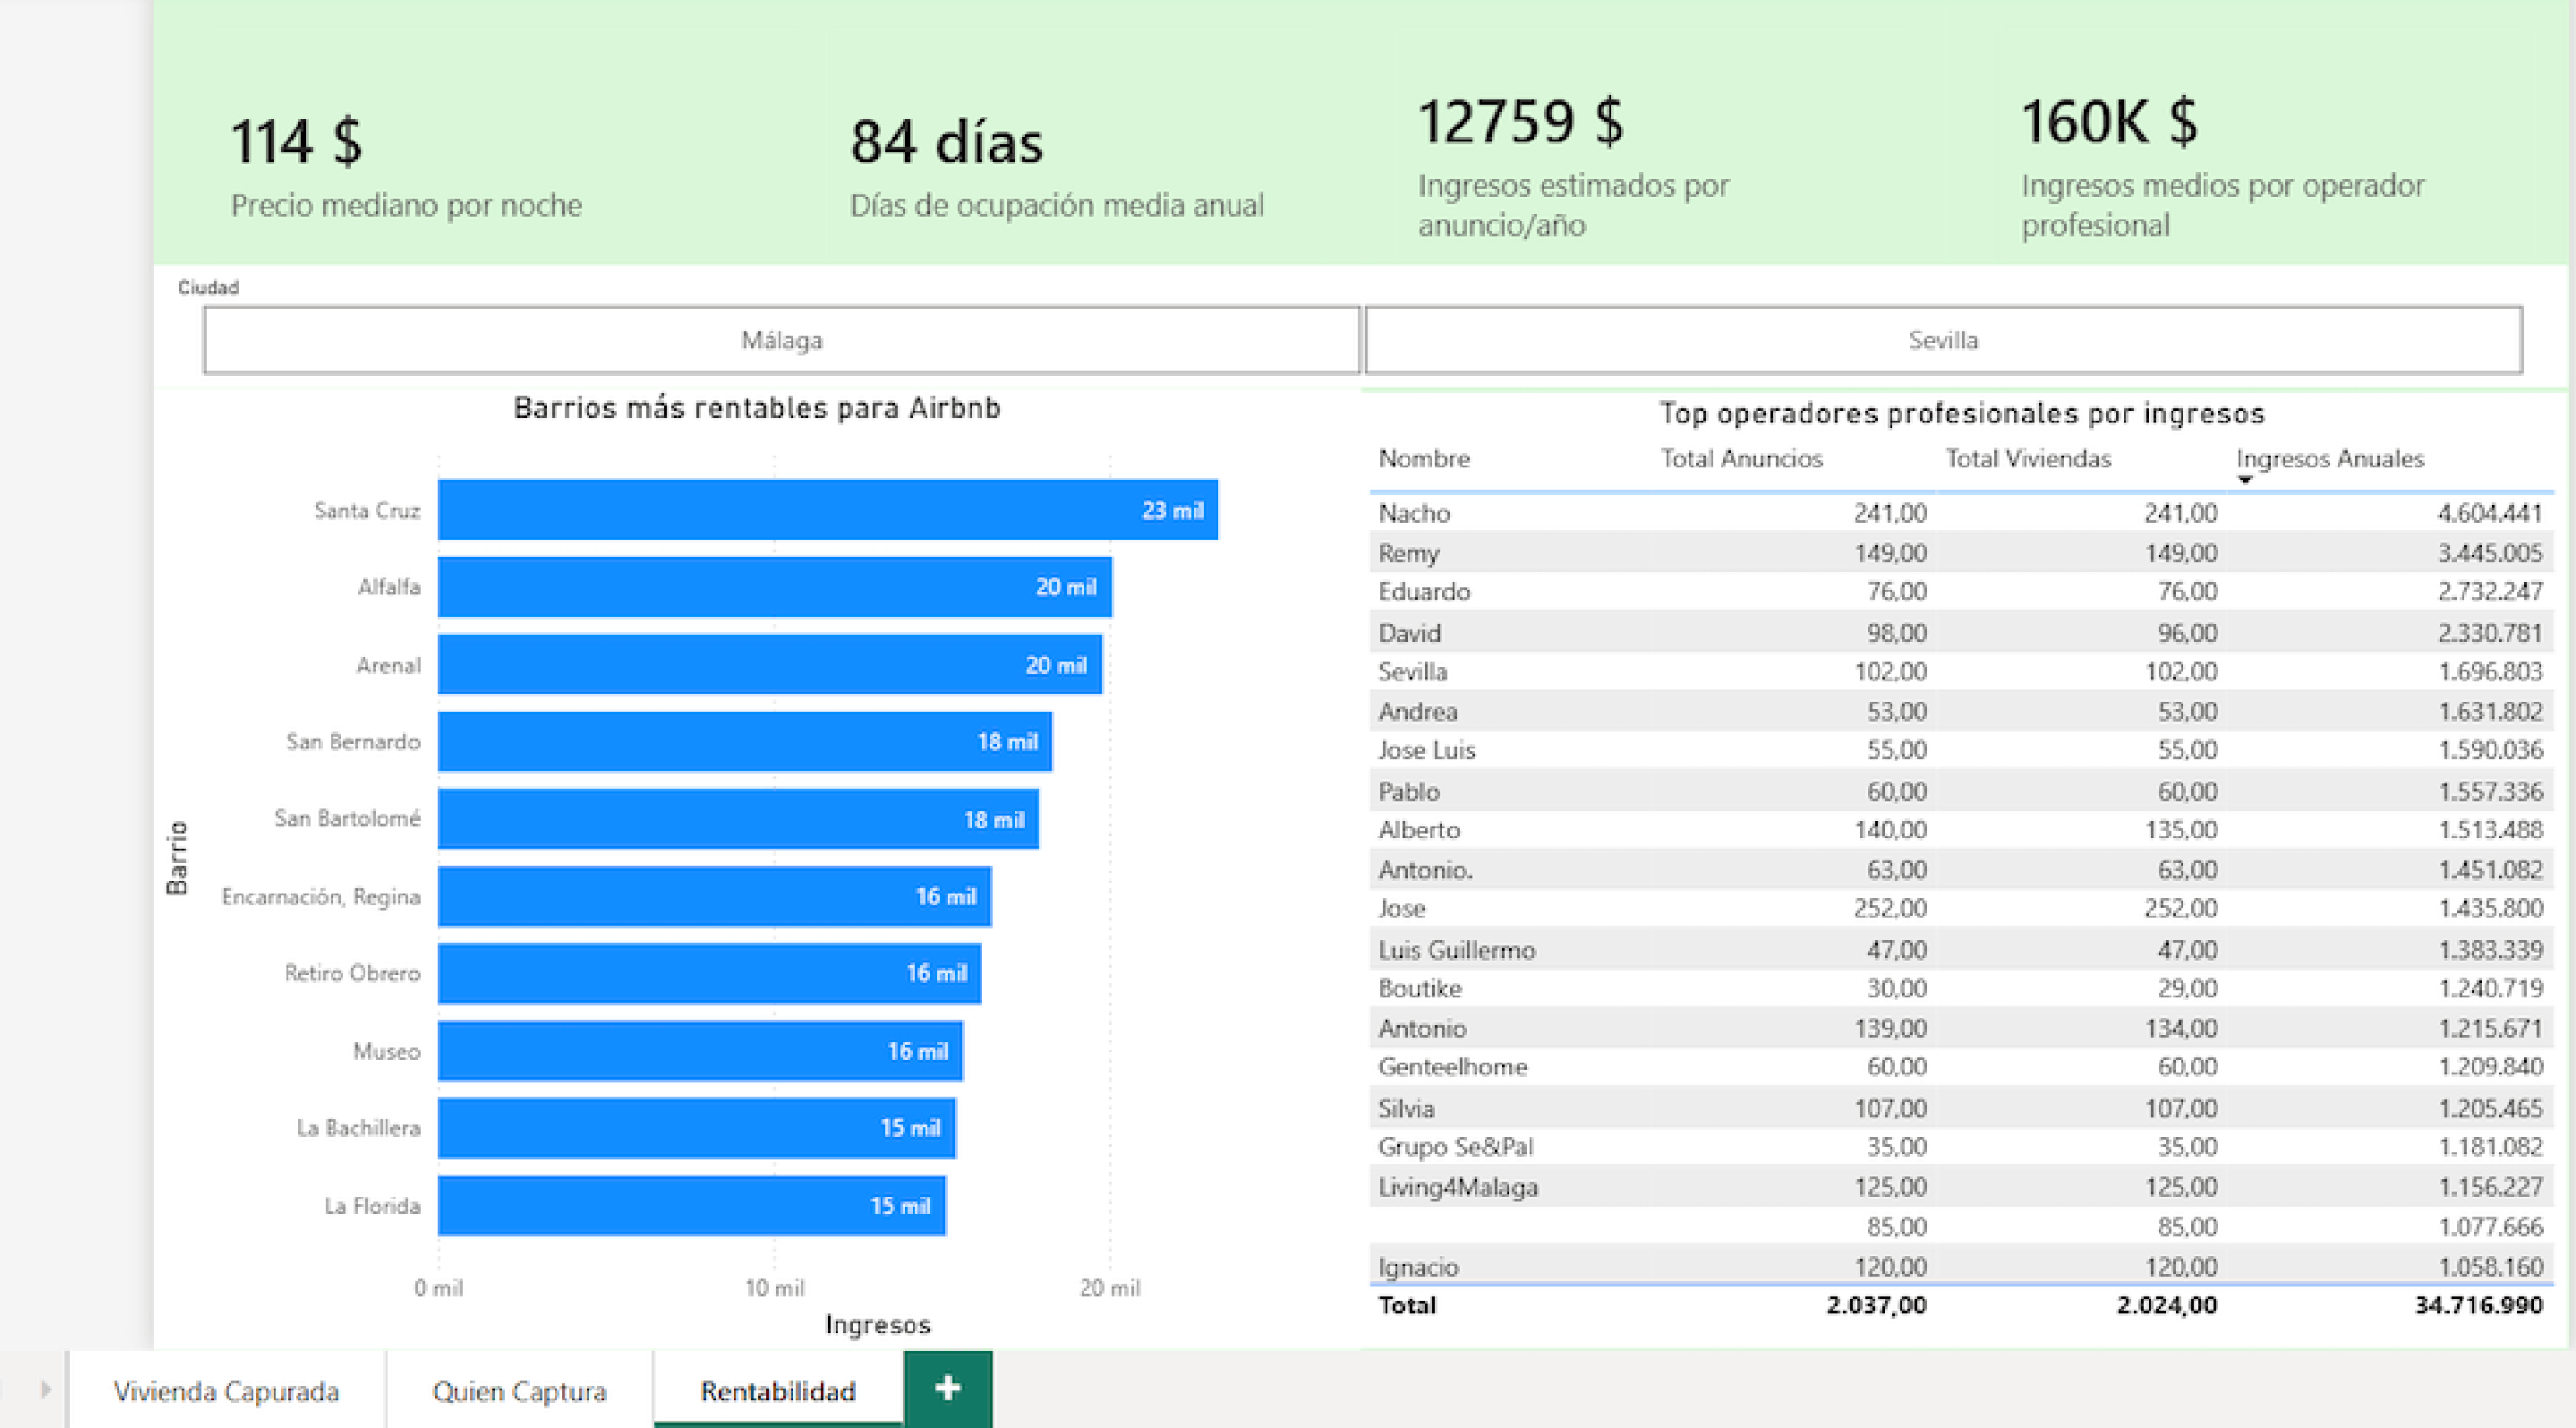

The page's visual inventory and layout, read from the dashboard file:
{"tool":"powerbi","page":{"name":"Rentabilidad","canvas":[1280,720],"ordinal":2},"visuals":[{"type":"cardVisual","fields":{"Data":["Comparativa Ciudades.Precio Mediano Noche"]},"box":[10.3,0,355.3,177.7],"z":0},{"type":"cardVisual","fields":{"Data":["Comparativa Ciudades.Ocupacion Media Anual"]},"box":[339.2,0,301,177.7],"z":1},{"type":"cardVisual","fields":{"Data":["Comparativa Ciudades.Ingresos Medios Listing"]},"box":[640.1,0,309.8,177.7],"z":2},{"type":"cardVisual","fields":{"Data":["Comparativa Ciudades.Revenue Medio Operador"]},"box":[960.2,0,320.1,177.7],"z":3},{"type":"barChart","title":"Barrios más rentables para Airbnb","fields":{"Category":["Presion por Barrio.NEIGHBOURHOOD_CLEANSED"],"Y":["Sum(Presion por Barrio.AVG_ESTIMATED_REVENUE)"]},"box":[0,210,640.1,509.5],"z":4},{"type":"slicer","fields":{"Values":["Ciudades.Ciudad Display"]},"box":[0,145.4,1280.3,64.6],"z":6},{"type":"tableEx","title":"Top operadores profesionales por ingresos","fields":{"Values":["Perfil de Hosts.HOST_NAME","Sum(Perfil de Hosts.TOTAL_LISTINGS)","Sum(Perfil de Hosts.ENTIRE_HOME_LISTINGS)","Sum(Perfil de Hosts.ESTIMATED_ANNUAL_REVENUE)"]},"box":[638.7,212.9,641.6,506.5],"z":7}]}

Visuals, with their boxes on the page's 1280x720 design canvas (x1, y1, x2, y2). These are canvas units, not pixel positions in the 2576x1428 screenshot, which may show the page scaled, cropped or inside an application window:
cardVisual - Comparativa Ciudades.Precio Mediano Noche: x1=10, y1=0, x2=366, y2=178
cardVisual - Comparativa Ciudades.Ocupacion Media Anual: x1=339, y1=0, x2=640, y2=178
cardVisual - Comparativa Ciudades.Ingresos Medios Listing: x1=640, y1=0, x2=950, y2=178
cardVisual - Comparativa Ciudades.Revenue Medio Operador: x1=960, y1=0, x2=1280, y2=178
"Barrios más rentables para Airbnb" barChart: x1=0, y1=210, x2=640, y2=720
slicer - Ciudades.Ciudad Display: x1=0, y1=145, x2=1280, y2=210
"Top operadores profesionales por ingresos" tableEx: x1=639, y1=213, x2=1280, y2=719
